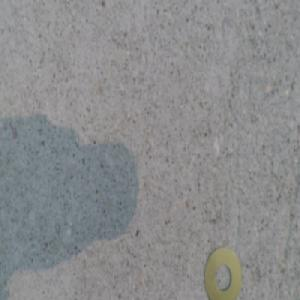Washer: (204, 248, 241, 298)
